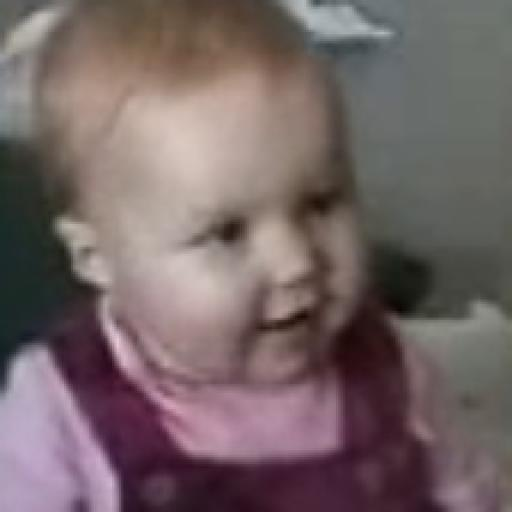Autism: (51, 34, 395, 434)
